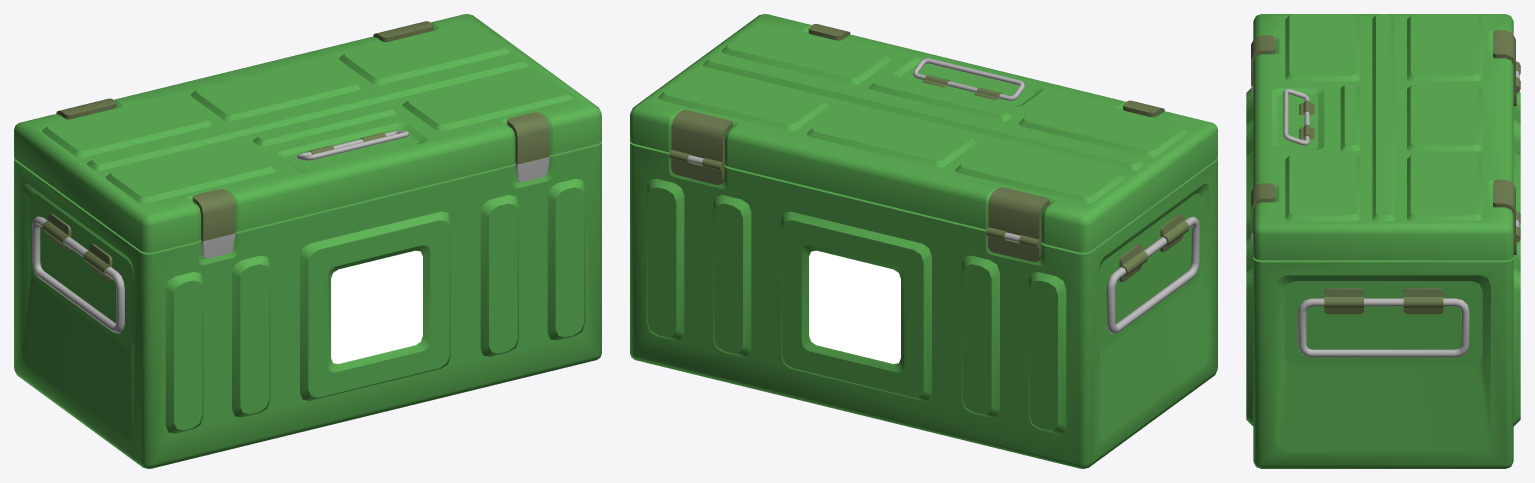
The picture shows the model from 3 angles, left to right: view 1: azimuth 30°, elevation 25°; view 2: azimuth 150°, elevation 25°; view 3: azimuth 270°, elevation 25°; orthographic projection. The views are drawn at different scales.
Parts seen in each view (by area): view 1: caja_municion_01_02 - Default_0, caja_municion_01_tapa_02 - Default_0, caja_municion_01_04 - Default_0, caja_municion_01_tapa_05 - Default_0, caja_municion_01_p1_03 - Default_0, caja_municion_01_tapa_03 - Default_0, caja_municion_01_05 - Default_0; view 2: caja_municion_01_02 - Default_0, caja_municion_01_tapa_02 - Default_0, caja_municion_01_04 - Default_0, caja_municion_01_tapa_05 - Default_0, caja_municion_01_05 - Default_0, caja_municion_01_p1_03 - Default_0, caja_municion_01_tapa_03 - Default_0; view 3: caja_municion_01_tapa_02 - Default_0, caja_municion_01_02 - Default_0, caja_municion_01_tapa_05 - Default_0, caja_municion_01_p2_03 - Default_0, caja_municion_01_05 - Default_0, caja_municion_01_tapa_03 - Default_0.
Part boxes in pixels (x1=…): caja_municion_01_02 - Default_0: x1=14, y1=142, x2=601, y2=468; caja_municion_01_tapa_02 - Default_0: x1=14, y1=14, x2=601, y2=252; caja_municion_01_04 - Default_0: x1=331, y1=250, x2=422, y2=363; caja_municion_01_tapa_05 - Default_0: x1=56, y1=21, x2=549, y2=241; caja_municion_01_p1_03 - Default_0: x1=32, y1=216, x2=124, y2=333; caja_municion_01_tapa_03 - Default_0: x1=201, y1=130, x2=549, y2=258; caja_municion_01_05 - Default_0: x1=42, y1=213, x2=112, y2=282; caja_municion_01_02 - Default_0: x1=630, y1=142, x2=1217, y2=468; caja_municion_01_tapa_02 - Default_0: x1=630, y1=14, x2=1217, y2=252; caja_municion_01_04 - Default_0: x1=809, y1=250, x2=900, y2=363; caja_municion_01_tapa_05 - Default_0: x1=669, y1=24, x2=1164, y2=248; caja_municion_01_05 - Default_0: x1=671, y1=159, x2=1189, y2=282; caja_municion_01_p1_03 - Default_0: x1=1106, y1=216, x2=1199, y2=333; caja_municion_01_tapa_03 - Default_0: x1=688, y1=58, x2=1024, y2=242; caja_municion_01_tapa_02 - Default_0: x1=1253, y1=14, x2=1513, y2=260; caja_municion_01_02 - Default_0: x1=1246, y1=88, x2=1520, y2=468; caja_municion_01_tapa_05 - Default_0: x1=1251, y1=30, x2=1520, y2=242; caja_municion_01_p2_03 - Default_0: x1=1298, y1=298, x2=1469, y2=357; caja_municion_01_05 - Default_0: x1=1324, y1=93, x2=1516, y2=314; caja_municion_01_tapa_03 - Default_0: x1=1251, y1=71, x2=1519, y2=249.
Size of the model in its own units: 66.35 by 35.31 by 34.76.
